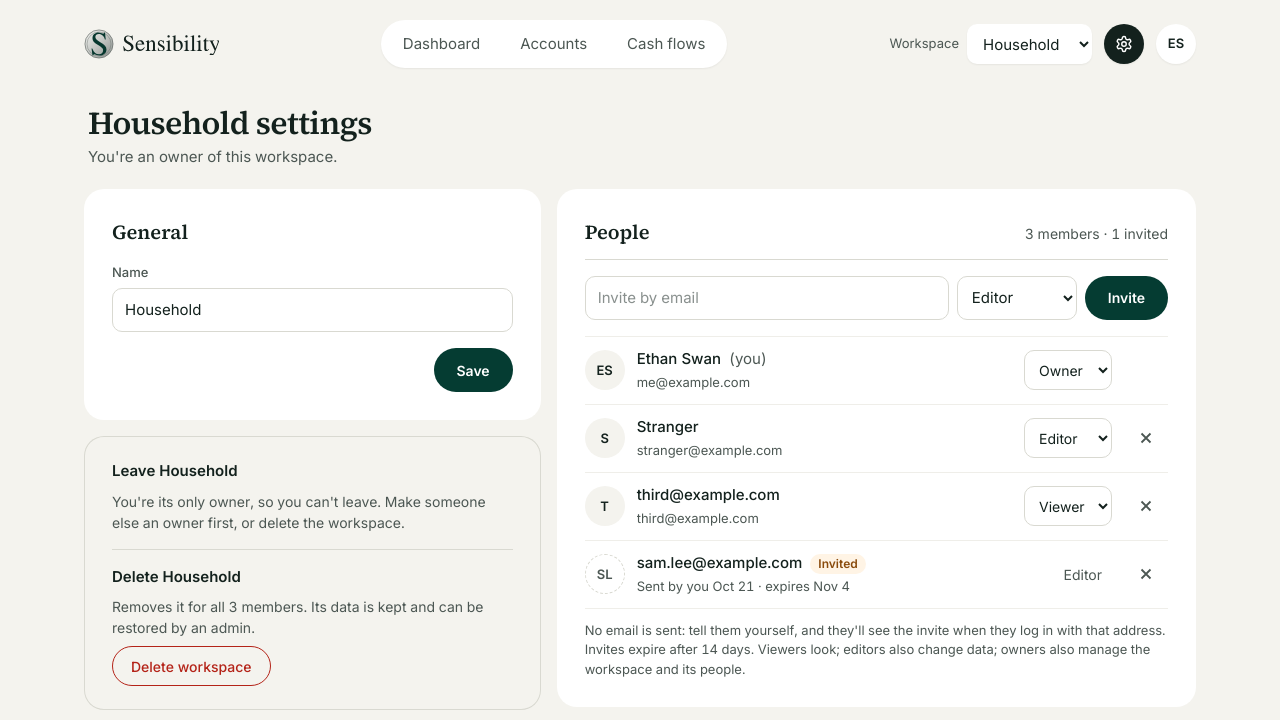
Scenario: settings, as the owner › renames the workspace
Replace the text in the field labelled "Name" with " Home " at (312, 310), box [112,288,513,332]
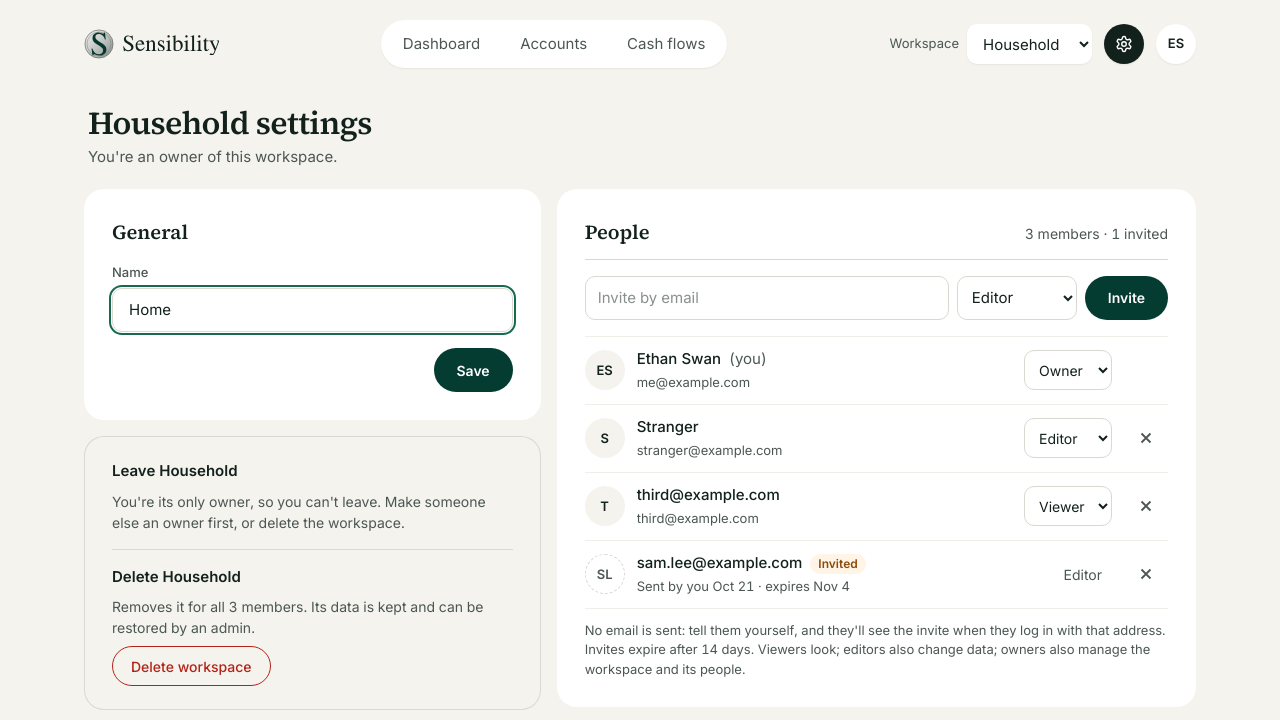
Click the button "Save" at (473, 370), box [434,348,513,392]
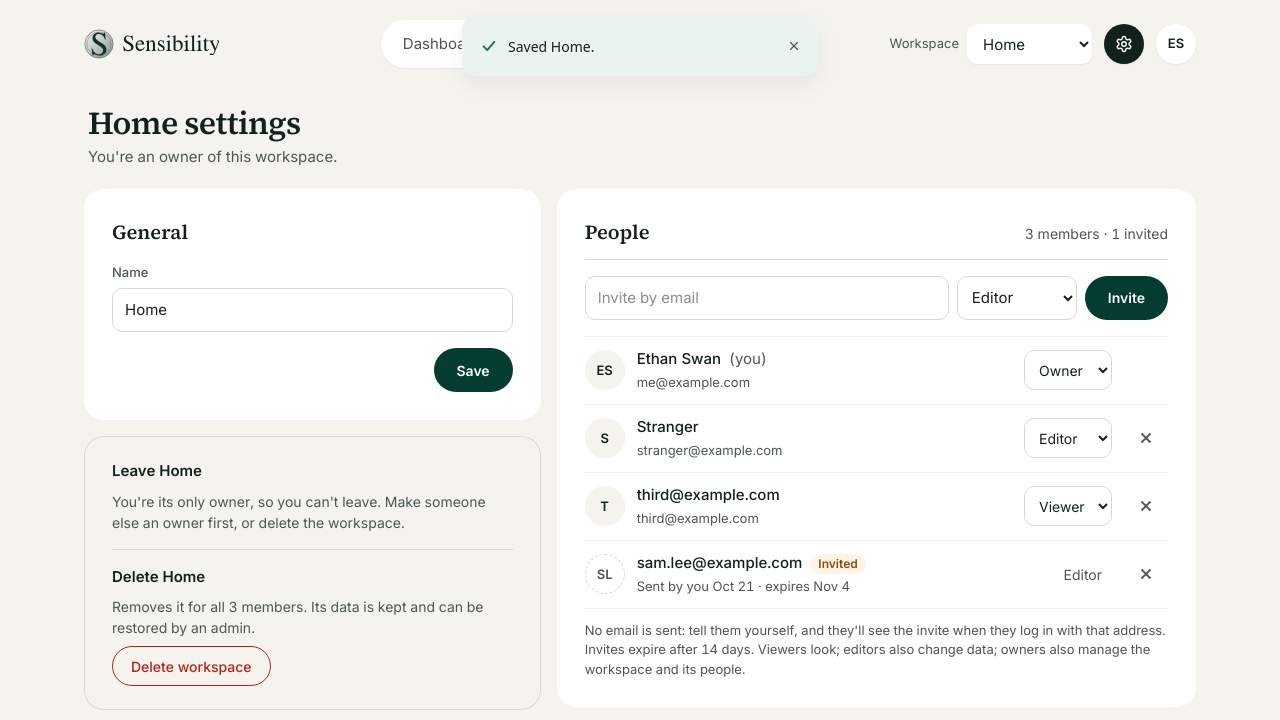
Expected: the text "Saved Home." is shown, [508,36,594,56]
Expected: the heading "Home settings" is shown, [88,101,300,145]
